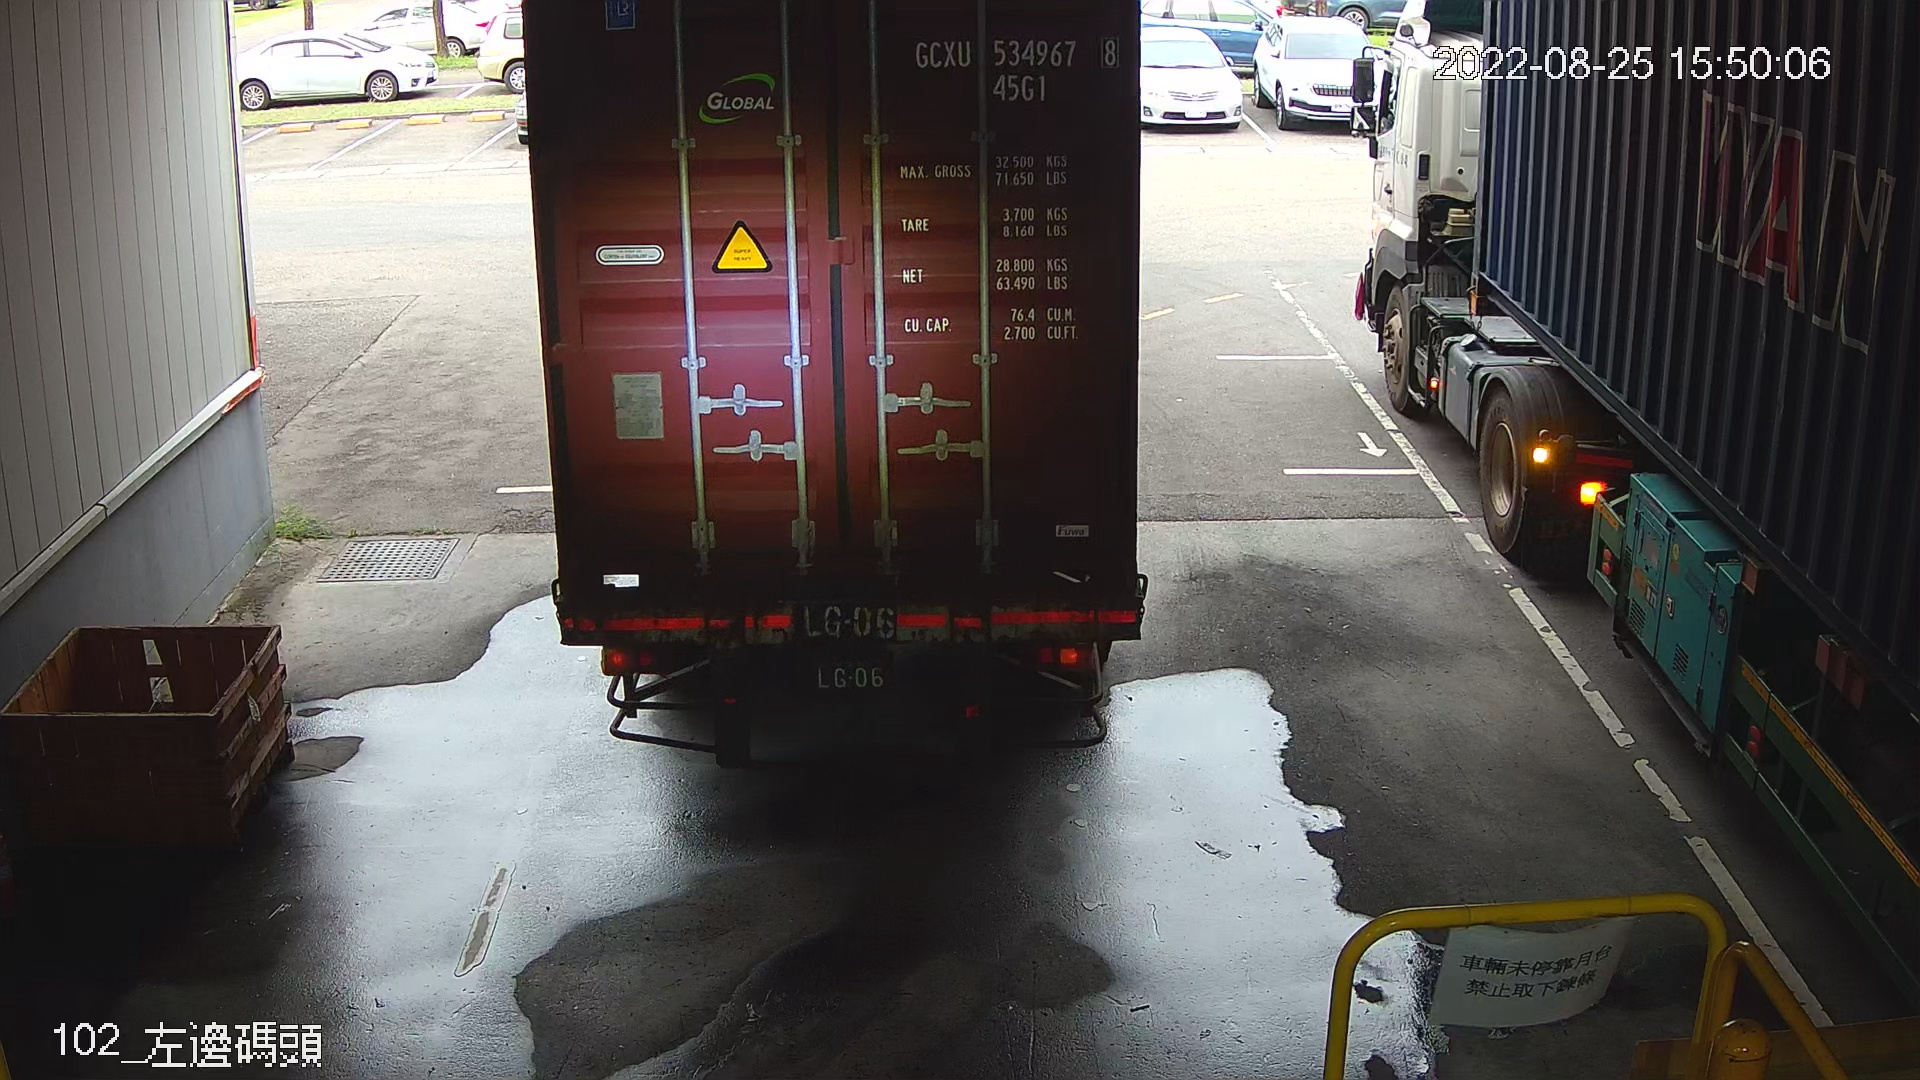container: (903, 26, 1129, 111)
